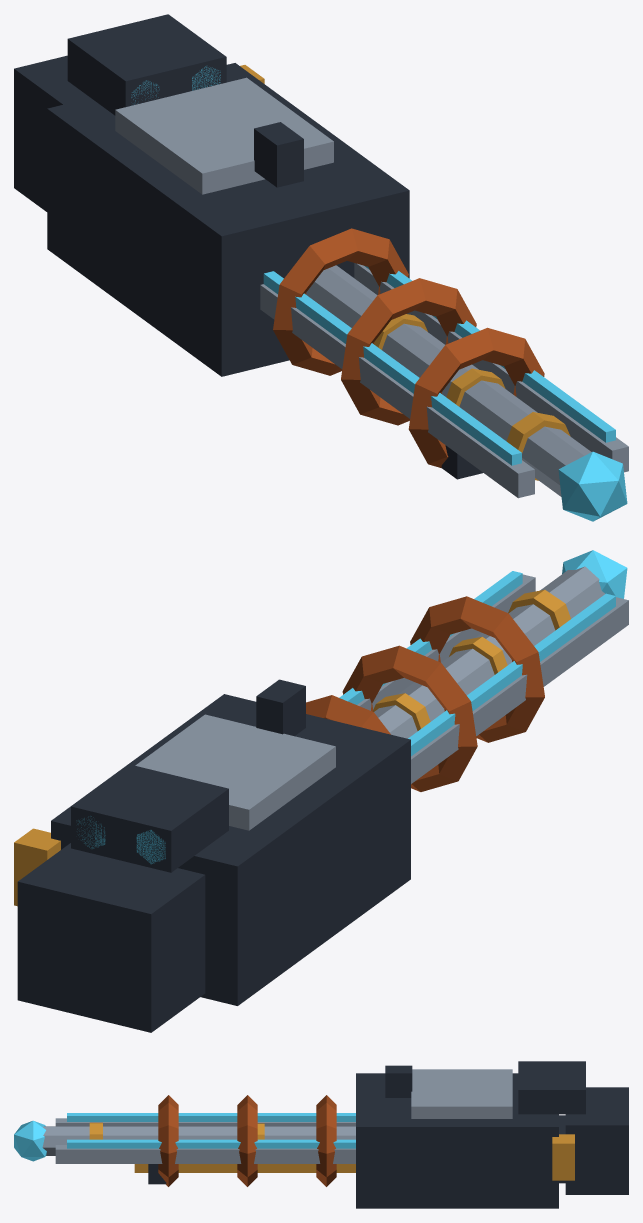
Rendered from GunB1.obj.
The picture shows the model from 3 angles, top to bottom: view 1: azimuth 30°, elevation 25°; view 2: azimuth 150°, elevation 25°; view 3: azimuth 270°, elevation 25°; orthographic projection. The views are drawn at different scales.
Parts seen in each view (by area): view 1: GunB1; view 2: GunB1; view 3: GunB1.
Part boxes in pixels (x1,y1,x2,y2): GunB1: (14,14,628,521); GunB1: (14,550,628,1032); GunB1: (14,1061,628,1208).
Size of the model in its own units: 0.63 by 0.5525 by 2.73.
